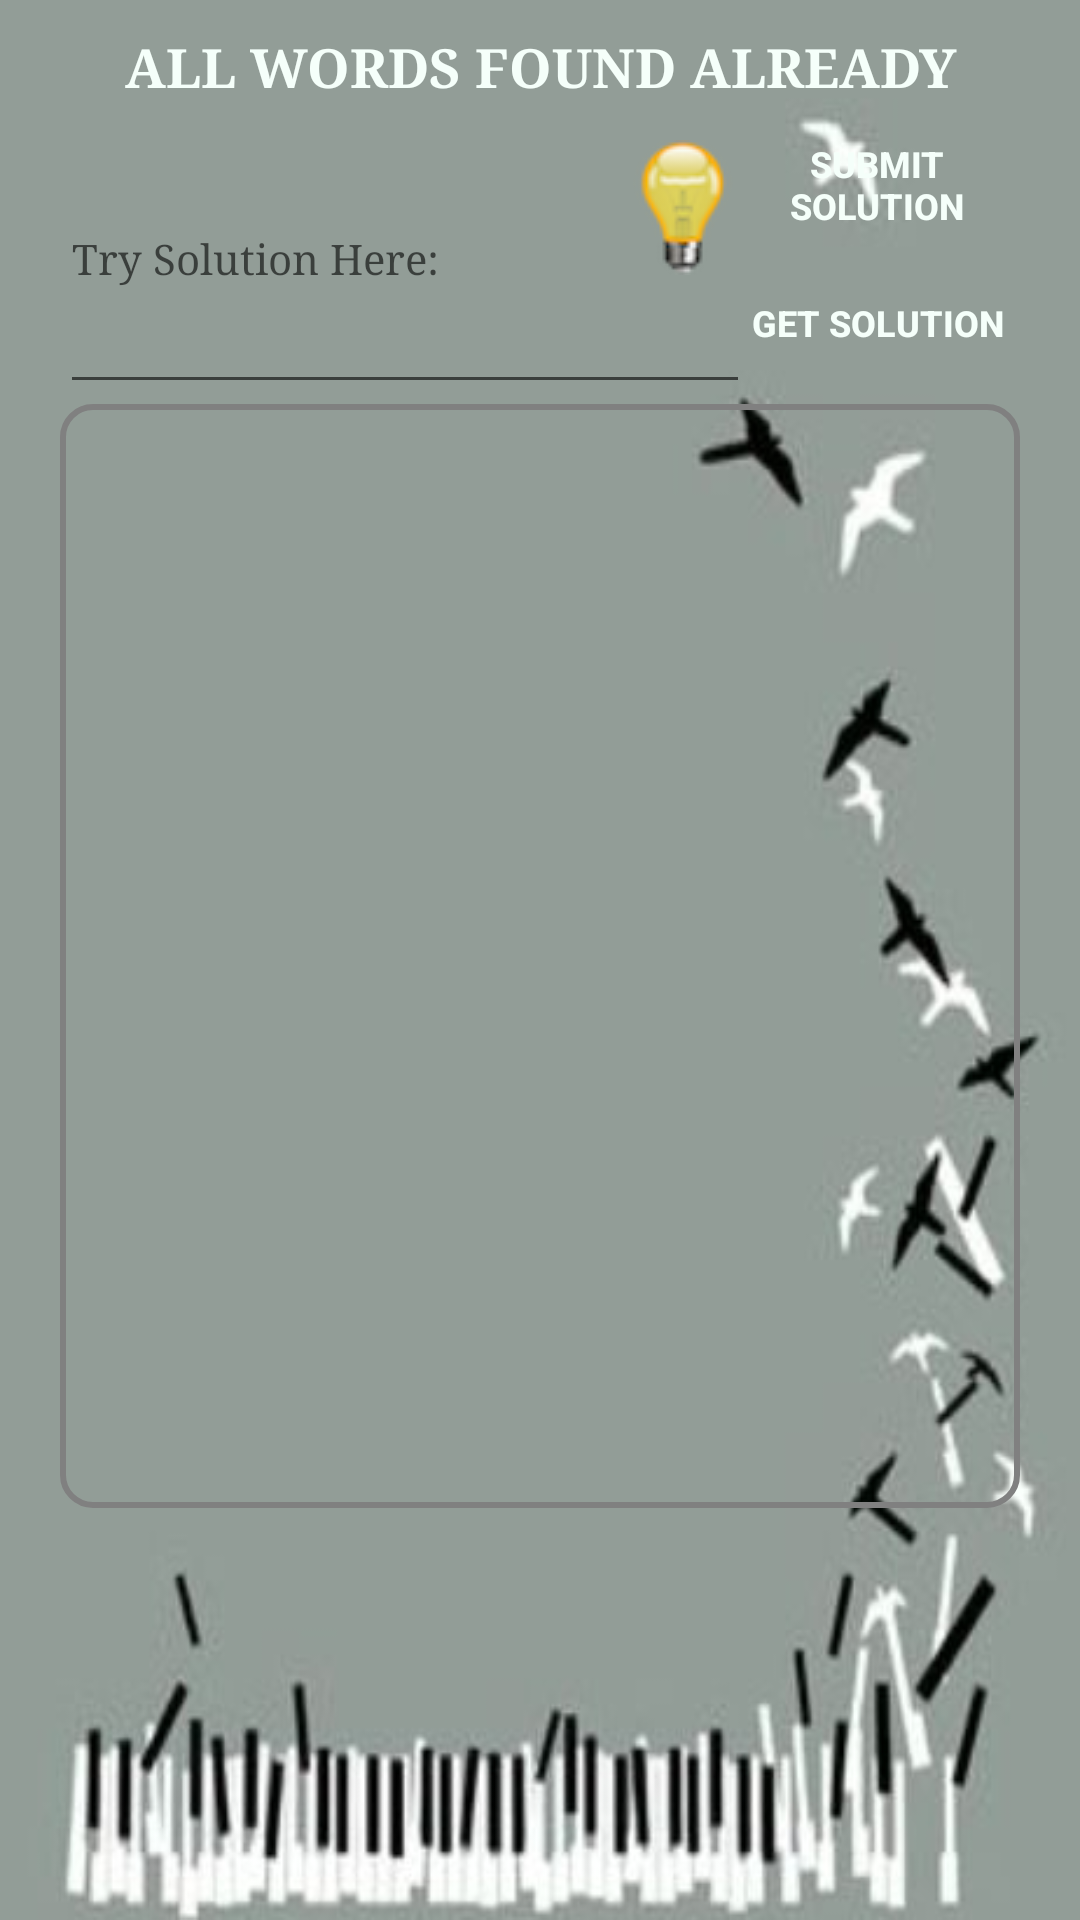

Screen size 1080x1920. Icon name, then its box in pixels as (x1, y1, x2, y2):
hint: (641, 142, 724, 272)
